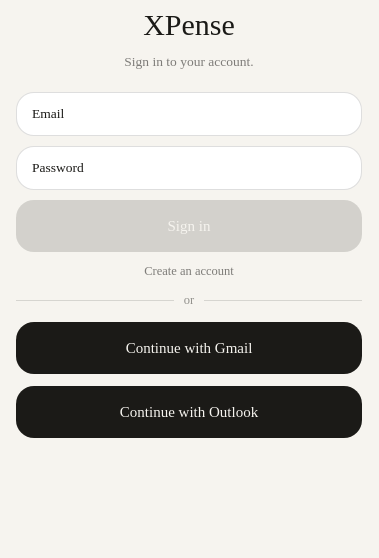
Test: cancelling the connect flow resets state instead of leaving the screen stuck
Step 1. Click the element with test id "login-connect-google" → (189, 348), box top-left (16, 322), bottom-right (362, 374)
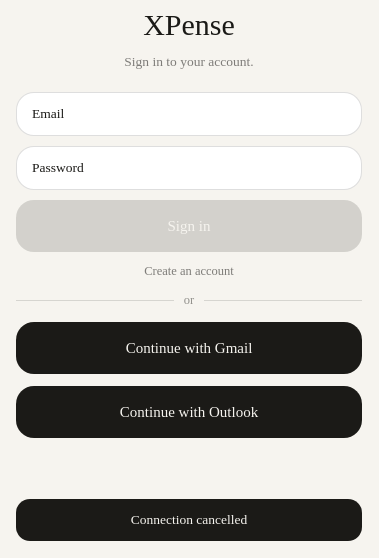
Expected: the text "Continue with Gmail" is shown, top-left (126, 340), bottom-right (252, 356)
Now the text "Connection cancelled" is shown, box top-left (131, 512), bottom-right (247, 527)
